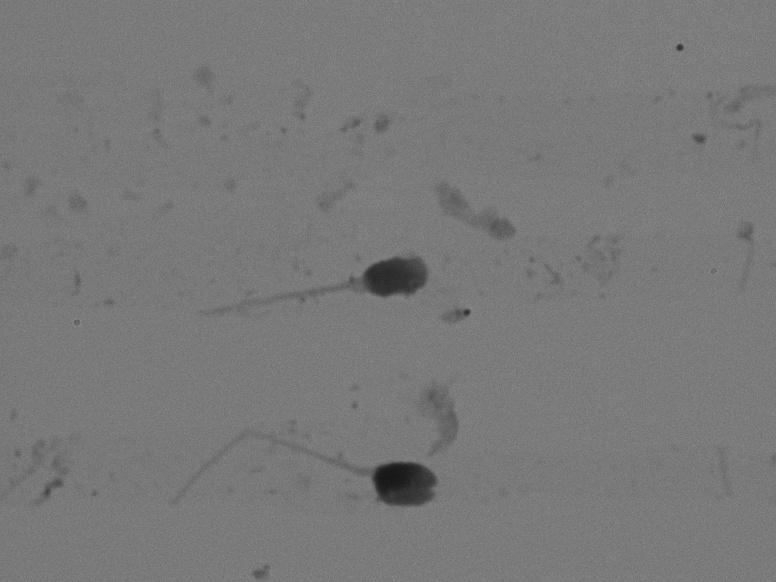Abnormal: (138, 220, 452, 366), (145, 407, 466, 540)
